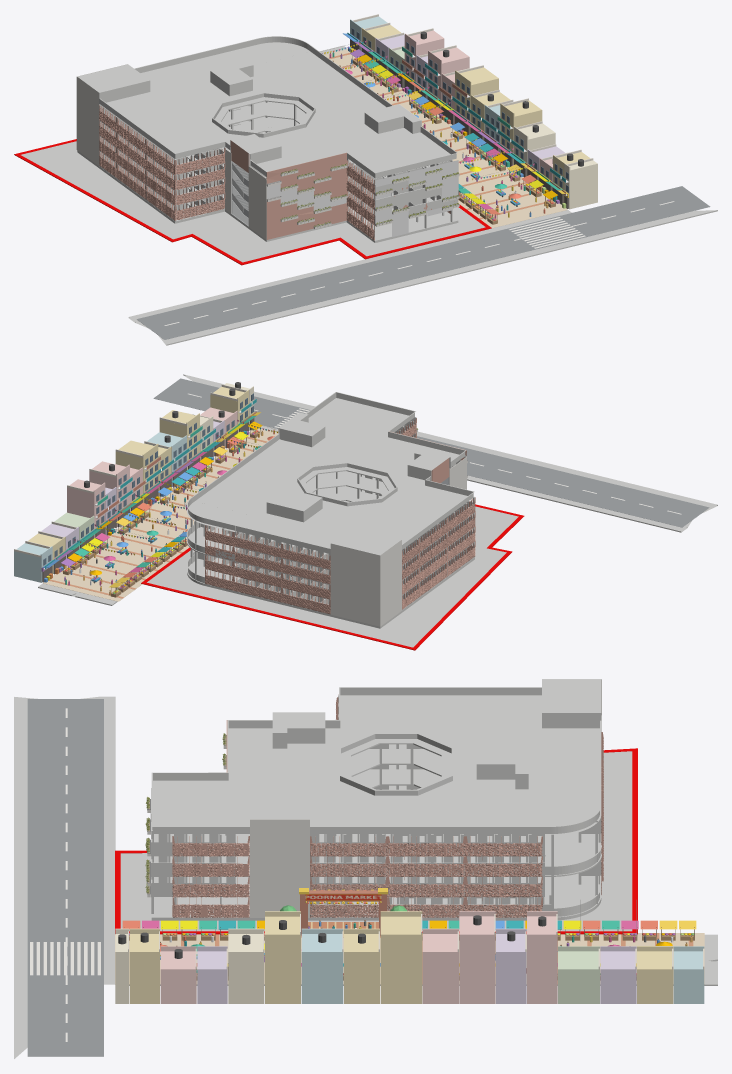
The model's file is poorna-market.glb.
The picture shows the model from 3 angles, top to bottom: view 1: azimuth 30°, elevation 25°; view 2: azimuth 150°, elevation 25°; view 3: azimuth 270°, elevation 25°; orthographic projection. The views are drawn at different scales.
Visible parts, largest first — view 1: mat0, street_5a5f63, mat3, mat23, street_e7c79a, street_f6d98b, mat32, street_f4b6b0, street_fff1c7, mat1, street_2c3e50, street_f5f1e6 (+15 smaller); view 2: mat0, mat3, street_5a5f63, street_e7c79a, mat23, street_f6d98b, street_f4b6b0, mat1, street_a9d7e0, street_2c3e50, street_8a5a32, street_3b3330 (+14 smaller); view 3: mat0, street_5a5f63, mat3, street_f6d98b, street_f4b6b0, street_d8c3e8, mat23, street_a9d7e0, street_fff1c7, street_c9e4b4, mat1, street_e7c79a (+8 smaller).
Boxes of the visible parts, left/top/right/bottom form: mat0: left=21, top=36, right=717, bottom=345; street_5a5f63: left=136, top=186, right=710, bottom=339; mat3: left=99, top=105, right=454, bottom=240; mat23: left=76, top=64, right=459, bottom=239; street_e7c79a: left=324, top=49, right=567, bottom=228; street_f6d98b: left=361, top=25, right=590, bottom=202; mat32: left=267, top=160, right=458, bottom=236; street_f4b6b0: left=404, top=30, right=552, bottom=190; street_fff1c7: left=514, top=123, right=597, bottom=209; mat1: left=14, top=139, right=491, bottom=265; street_2c3e50: left=351, top=28, right=568, bottom=192; street_f5f1e6: left=164, top=201, right=674, bottom=325; mat0: left=38, top=374, right=717, bottom=647; mat3: left=194, top=418, right=475, bottom=614; street_5a5f63: left=153, top=378, right=709, bottom=527; street_e7c79a: left=43, top=428, right=278, bottom=601; mat23: left=278, top=412, right=467, bottom=626; street_f6d98b: left=25, top=386, right=248, bottom=573; street_f4b6b0: left=67, top=407, right=237, bottom=537; mat1: left=141, top=504, right=524, bottom=650; street_a9d7e0: left=14, top=432, right=186, bottom=582; street_2c3e50: left=43, top=393, right=253, bottom=565; street_8a5a32: left=63, top=430, right=260, bottom=597; street_3b3330: left=42, top=418, right=254, bottom=582; mat0: left=14, top=679, right=717, bottom=1058; street_5a5f63: left=27, top=699, right=103, bottom=1056; mat3: left=172, top=694, right=603, bottom=917; street_f6d98b: left=129, top=911, right=673, bottom=1003; street_f4b6b0: left=160, top=911, right=557, bottom=1003; street_d8c3e8: left=197, top=928, right=636, bottom=1003; mat23: left=147, top=679, right=601, bottom=917; street_a9d7e0: left=301, top=928, right=704, bottom=1003; street_fff1c7: left=115, top=928, right=264, bottom=1003; street_c9e4b4: left=558, top=946, right=599, bottom=1003; mat1: left=115, top=748, right=637, bottom=934; street_e7c79a: left=115, top=933, right=704, bottom=984.
Size of the model in its own units: 152 by 22.81 by 125.
59 materials, 1 textured.
